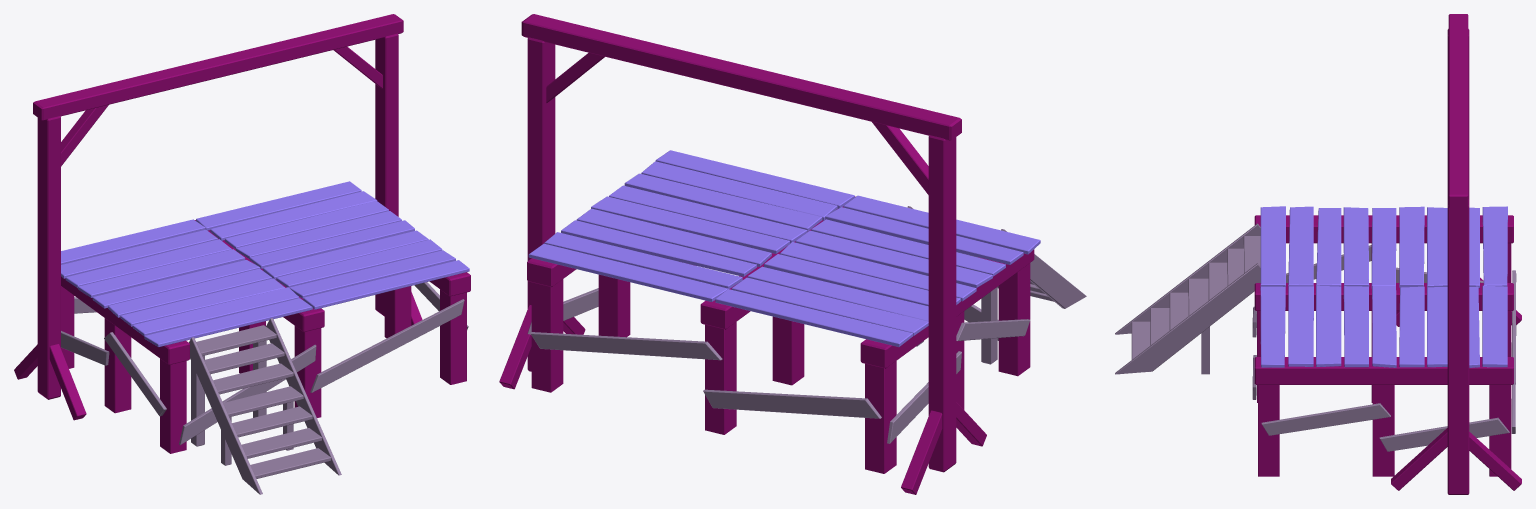
Rendered from Gallows.fbx.
3 views of the same model, side by side, from view 1: azimuth 30°, elevation 25°; view 2: azimuth 150°, elevation 25°; view 3: azimuth 270°, elevation 25° (orthographic). The views are drawn at different scales.
Parts seen in each view (by area): view 1: Box004, Box005, Box009, Wood Panel009, Wood Panel034, Wood Panel008, Wood Panel014, Wood Panel010, Box001, Wood Panel007, Wood Panel006, Wood Panel (+35 smaller); view 2: Box004, Box005, Box009, Wood Panel, Wood Panel017, Wood Panel033, Wood Panel032, Wood Panel006, Wood Panel004, Wood Panel002, Wood Panel016, Box007 (+30 smaller); view 3: Box009, Box003, Box004, Wood Panel019, Wood Panel, Wood Panel006, Wood Panel007, Wood Panel003, Wood Panel009, Wood Panel014, Wood Panel008, Wood Panel005 (+28 smaller).
Part boxes in pixels (left/top/right/bottom): Box004: left=33, top=14, right=403, bottom=120; Box005: left=37, top=116, right=60, bottom=399; Box009: left=375, top=33, right=398, bottom=316; Wood Panel009: left=144, top=298, right=312, bottom=347; Wood Panel034: left=310, top=299, right=464, bottom=392; Wood Panel008: left=303, top=260, right=469, bottom=309; Wood Panel014: left=78, top=249, right=245, bottom=297; Wood Panel010: left=132, top=287, right=299, bottom=336; Box001: left=160, top=358, right=186, bottom=453; Wood Panel007: left=289, top=250, right=455, bottom=298; Wood Panel006: left=276, top=239, right=442, bottom=287; Wood Panel: left=196, top=181, right=361, bottom=230; Box004: left=521, top=14, right=961, bottom=140; Box005: left=928, top=135, right=956, bottom=472; Box009: left=527, top=37, right=555, bottom=371; Wood Panel: left=528, top=243, right=728, bottom=301; Wood Panel017: left=715, top=289, right=912, bottom=346; Wood Panel033: left=703, top=389, right=881, bottom=418; Wood Panel032: left=530, top=332, right=722, bottom=360; Wood Panel006: left=624, top=173, right=822, bottom=231; Wood Panel004: left=591, top=196, right=789, bottom=253; Wood Panel002: left=561, top=220, right=756, bottom=276; Wood Panel016: left=731, top=277, right=928, bottom=335; Box007: left=531, top=279, right=563, bottom=392; Box009: left=1447, top=199, right=1469, bottom=494; Box003: left=1254, top=357, right=1513, bottom=384; Box004: left=1448, top=14, right=1468, bottom=208; Wood Panel019: left=1115, top=263, right=1260, bottom=374; Wood Panel: left=1482, top=285, right=1507, bottom=367; Wood Panel006: left=1316, top=285, right=1341, bottom=366; Wood Panel007: left=1288, top=286, right=1313, bottom=366; Wood Panel003: left=1399, top=286, right=1424, bottom=367; Wood Panel009: left=1260, top=206, right=1285, bottom=286; Wood Panel014: left=1399, top=206, right=1424, bottom=287; Wood Panel008: left=1260, top=286, right=1285, bottom=367; Wood Panel005: left=1343, top=286, right=1368, bottom=367.
Bounding box in the file's own units: 660 × 515 × 621.
